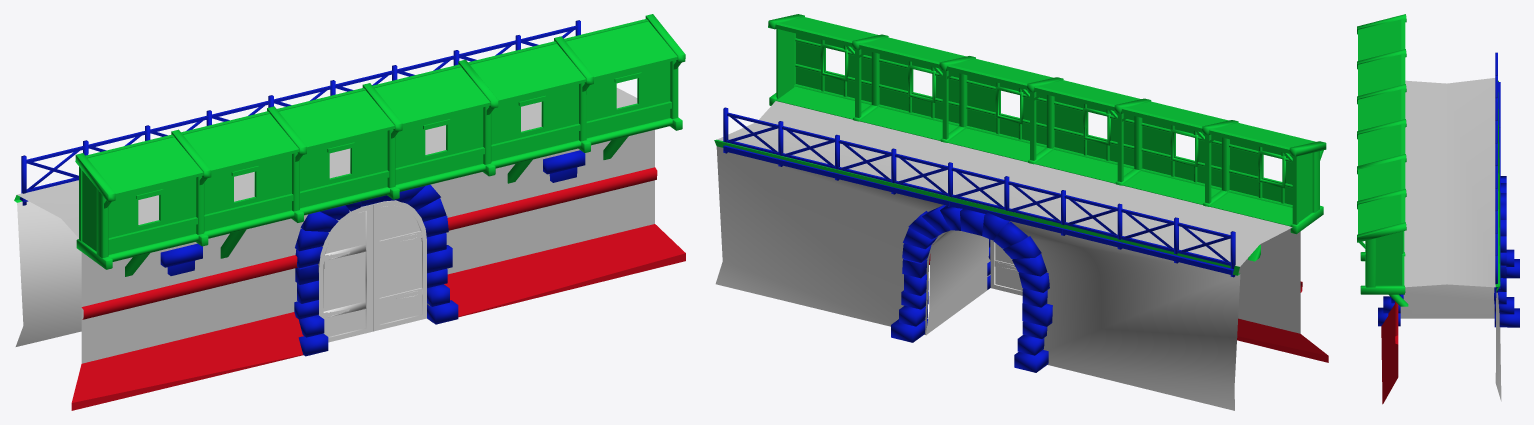
File: Wall_Goal_v2 (2).fbx
3 renders of one model, left to right at view 1: azimuth 30°, elevation 25°; view 2: azimuth 150°, elevation 25°; view 3: azimuth 270°, elevation 25°, orthographic. The views are drawn at different scales.
Visible parts, largest first — view 1: Group_4.015, Group_4.028, Group_3.013, Group_3.012, Group_3.011; view 2: Group_4.015, Group_4.028, Group_3.011, Group_3.013; view 3: Group_4.015, Group_4.028, Group_3.011.
Part boxes in pixels (x1,y1,x2,y2): Group_4.015: (14,88,685,410); Group_4.028: (75,14,685,276); Group_3.013: (373,200,426,331); Group_3.012: (318,204,372,342); Group_3.011: (19,20,580,205); Group_4.015: (714,101,1328,410); Group_4.028: (768,14,1326,261); Group_3.011: (723,107,1235,277); Group_3.013: (990,239,1022,295); Group_4.015: (1378,78,1519,404); Group_4.028: (1357,14,1408,306); Group_3.011: (1494,52,1500,292).
Size of the model in its own units: 2058 by 770 by 631.
